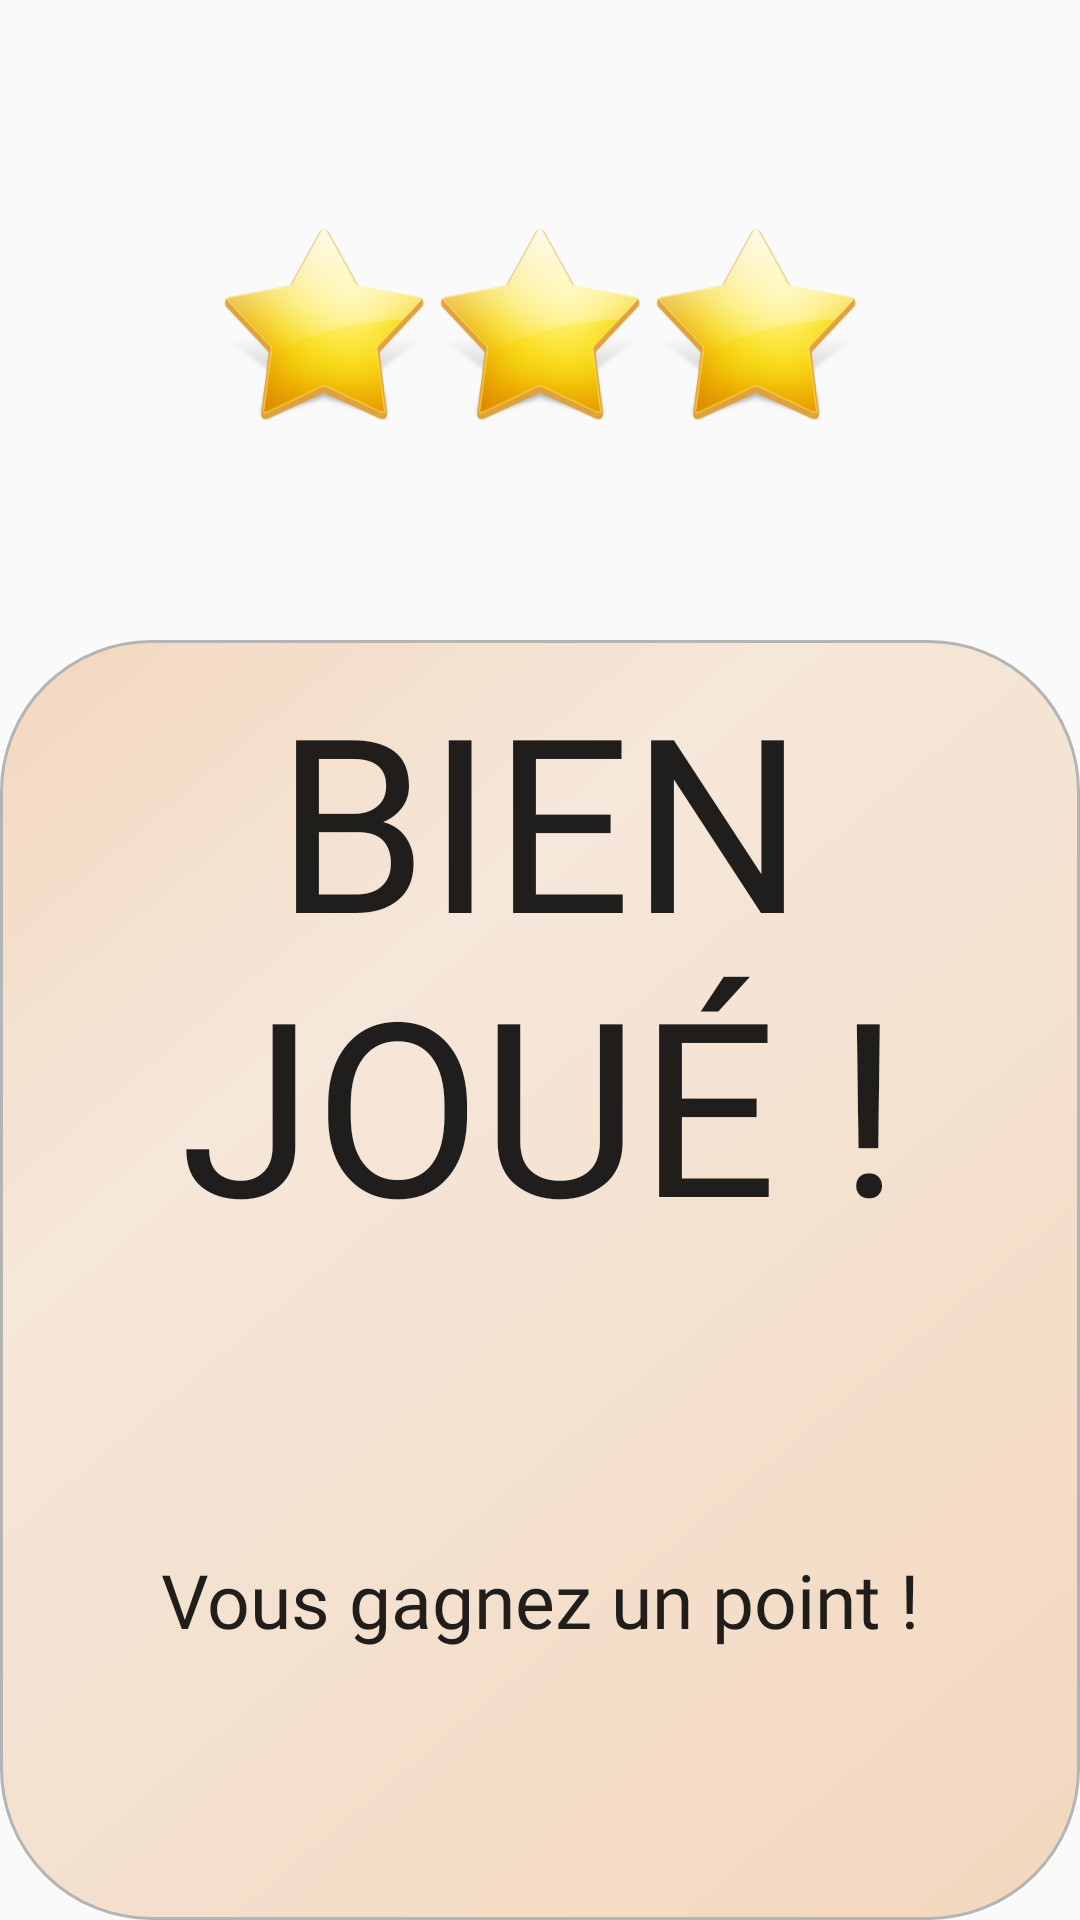

Locate icon controls on the screen. Image size 1080x1920, boxes as box=[x1, y1, x2, y2].
star: box=[224, 228, 424, 420], box=[440, 228, 640, 420], box=[656, 228, 856, 420]
